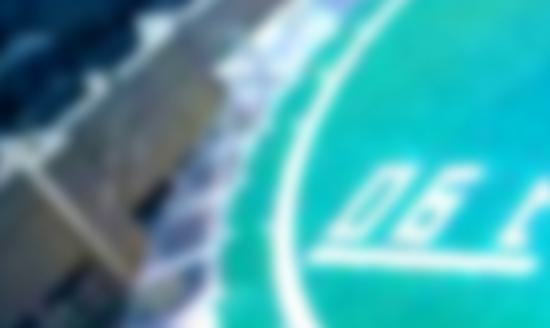Apron: (310, 58, 527, 277)
